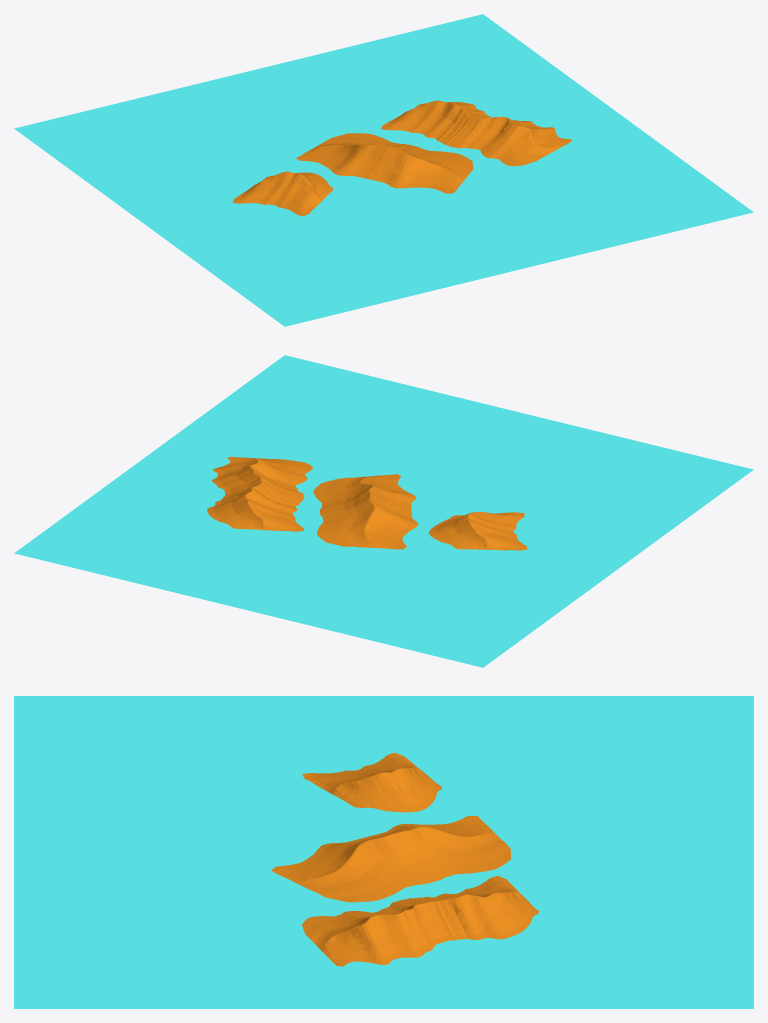
File: envi test.fbx
The picture shows the model from 3 angles, top to bottom: view 1: azimuth 30°, elevation 25°; view 2: azimuth 150°, elevation 25°; view 3: azimuth 270°, elevation 25°; orthographic projection. The views are drawn at different scales.
Visible parts, largest first — view 1: Plane, _gltfNode_2, _gltfNode_1, _gltfNode_0; view 2: Plane, _gltfNode_1, _gltfNode_2, _gltfNode_0; view 3: Plane, _gltfNode_1, _gltfNode_2, _gltfNode_0.
Boxes of the visible parts, x1,y1,x2,y2 form: Plane: (14,14,753,326); _gltfNode_2: (381,100,571,166); _gltfNode_1: (296,133,473,193); _gltfNode_0: (232,171,333,216); Plane: (14,355,753,667); _gltfNode_1: (313,474,418,549); _gltfNode_2: (207,456,312,531); _gltfNode_0: (429,512,527,550); Plane: (14,696,753,1008); _gltfNode_1: (271,816,511,902); _gltfNode_2: (302,875,538,966); _gltfNode_0: (302,752,441,812).
Size of the model in its own units: 13332 by 509 by 13332.
1 material, 1 textured.
